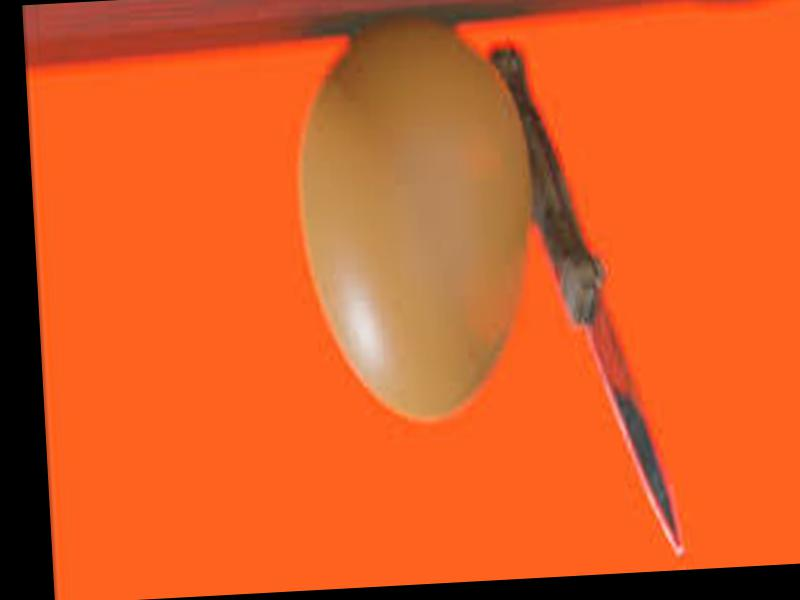Eggs: (293, 20, 541, 421)
